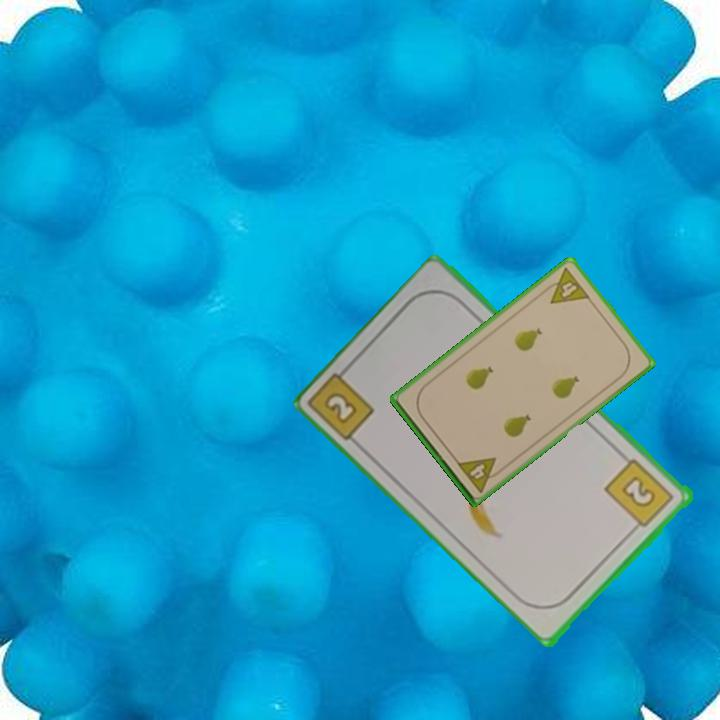2b: (601, 455, 678, 536), (321, 388, 361, 427)
4p: (538, 264, 593, 307), (453, 453, 506, 495)
